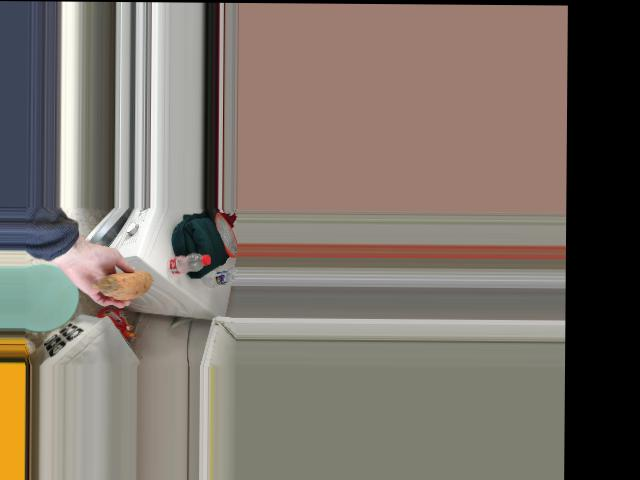sweet_potato: (89, 267, 156, 296)
